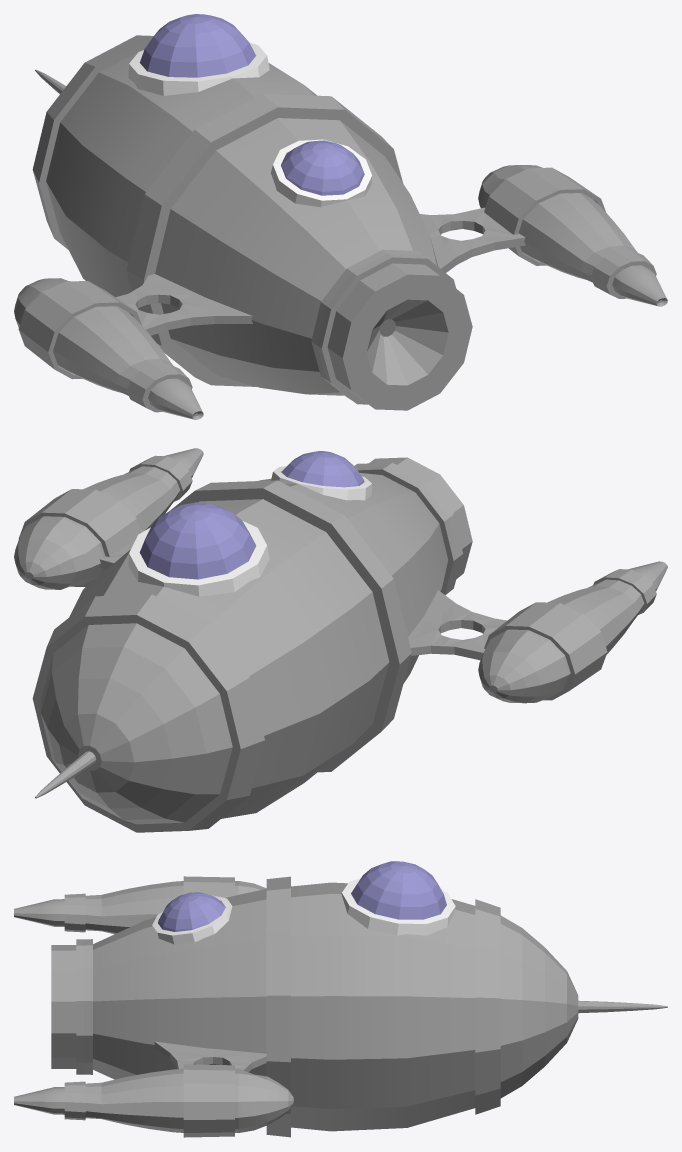
Rendered from PlayerRocket.fbx.
3 views of the same model, one above another, from view 1: azimuth 30°, elevation 25°; view 2: azimuth 150°, elevation 25°; view 3: azimuth 270°, elevation 25° (orthographic). The views are drawn at different scales.
Parts seen in each view (by area): view 1: Body_Bot, Body_Top, Bottom, Belt_Mid, polySurface16, polySurface6, Window_Top, polySurface17, Wing_Left, Belt_Top, polySurface2, Belt_Bot (+8 smaller); view 2: Body_Top, Head, Belt_Top, Body_Bot, Belt_Mid, polySurface16, polySurface6, Window_Top, polySurface17, polySurface2, Wing_Left, Ring_Top (+7 smaller); view 3: Body_Top, Body_Bot, Head, polySurface6, Belt_Mid, Belt_Top, Window_Top, polySurface2, polySurface16, Bottom, Belt_Bot, Ring_Top (+9 smaller).
Part boxes in pixels (x1,y1,x2,y2): Body_Bot: (155,118,438,395); Body_Top: (46,48,336,297); Bottom: (327,263,472,410); Belt_Mid: (126,93,403,386); polySurface16: (14,278,173,395); polySurface6: (478,165,637,282); Window_Top: (139,14,255,77); polySurface17: (18,281,141,379); Wing_Left: (116,274,252,335); Belt_Top: (32,35,153,249); polySurface2: (484,167,605,265); Belt_Bot: (311,249,456,404); Body_Top: (69,499,389,818); Head: (40,623,232,824); Belt_Top: (32,594,264,832); Body_Bot: (258,473,447,683); Belt_Mid: (146,480,411,772); polySurface16: (478,579,644,703); polySurface6: (14,466,180,589); Window_Top: (139,502,255,579); polySurface17: (484,602,607,700); polySurface2: (18,489,141,587); Wing_Left: (408,590,507,660); Ring_Top: (128,521,269,596); Body_Top: (266,882,475,1131); Body_Bot: (93,889,266,1079); Head: (500,915,578,1098); polySurface6: (85,1068,293,1132); Belt_Mid: (266,876,290,1137); Belt_Top: (475,899,500,1114); Window_Top: (351,861,446,919); polySurface2: (183,1064,234,1137); polySurface16: (85,881,266,934); Bottom: (51,945,76,1068); Belt_Bot: (76,939,92,1074); Ring_Top: (341,878,455,935).
Size of the model in its own units: 9.51 by 5.09 by 11.62.
